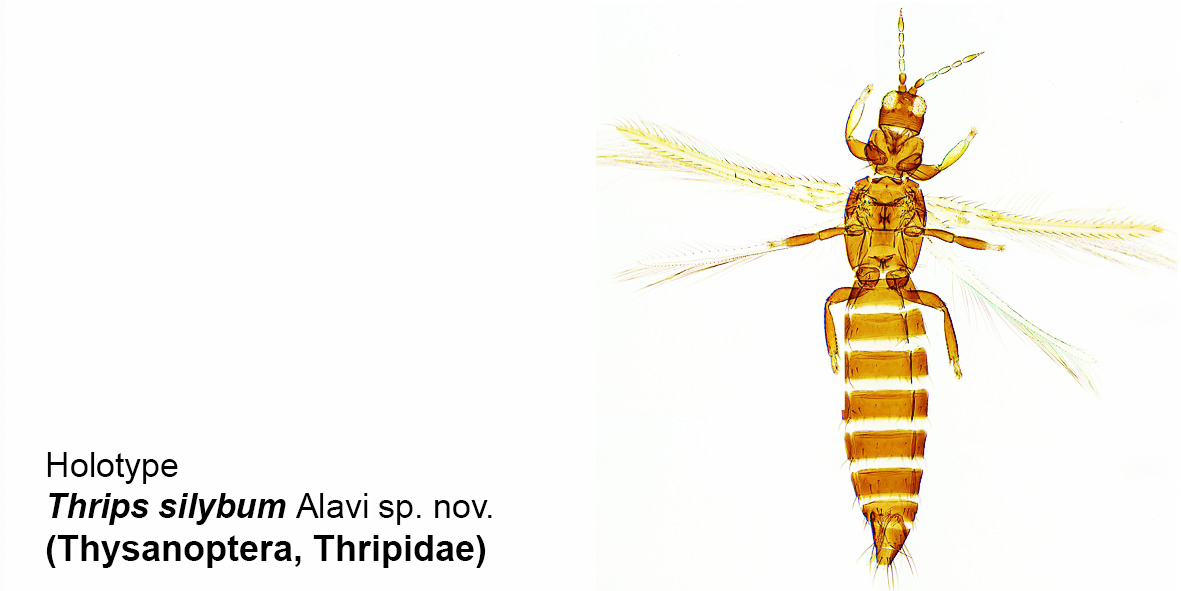Thripidae: (594, 8, 1175, 588)
